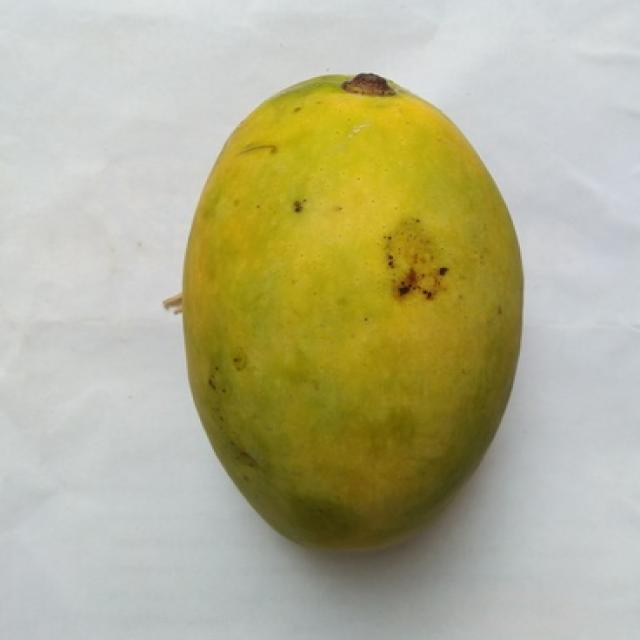Mango: (184, 74, 520, 547)
